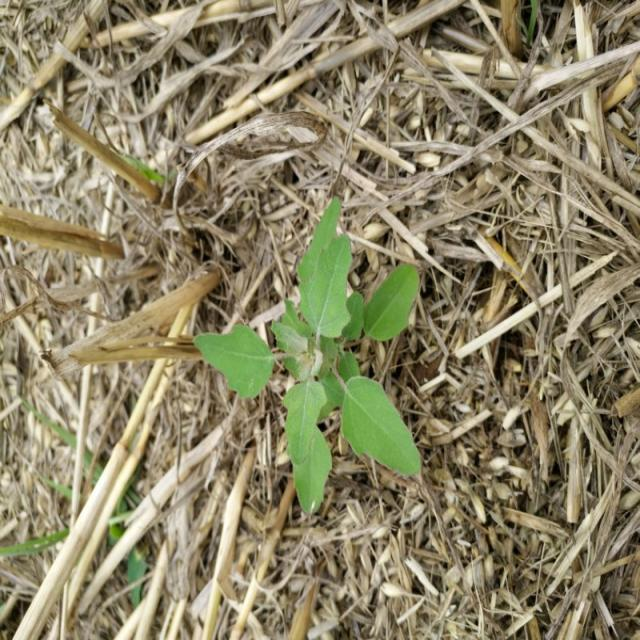ca: (200, 203, 419, 512)
